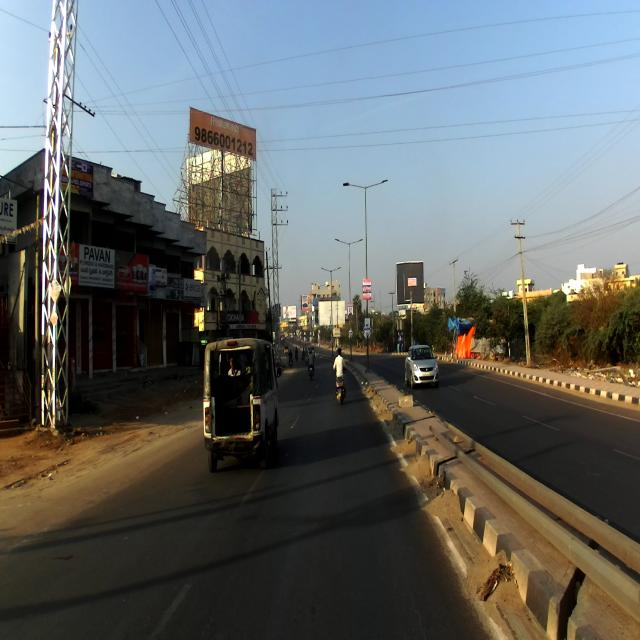car ahead at: (200, 326, 281, 460)
electric pole ahead at: (42, 0, 84, 447)
